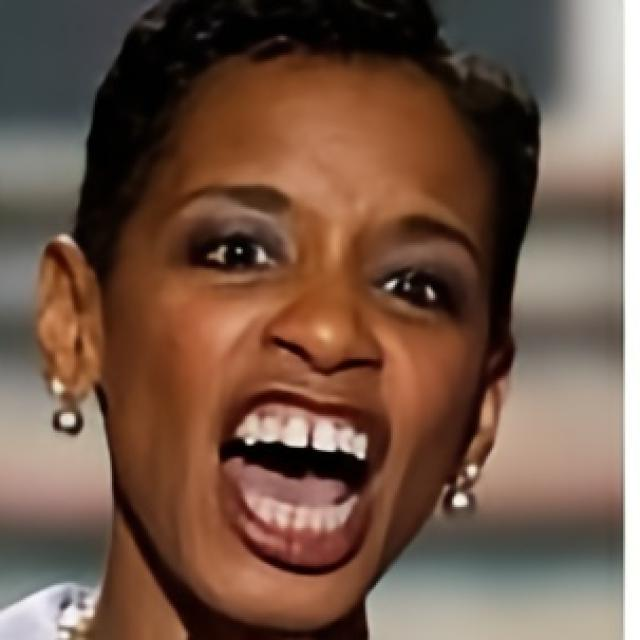anger: (108, 48, 496, 600)
